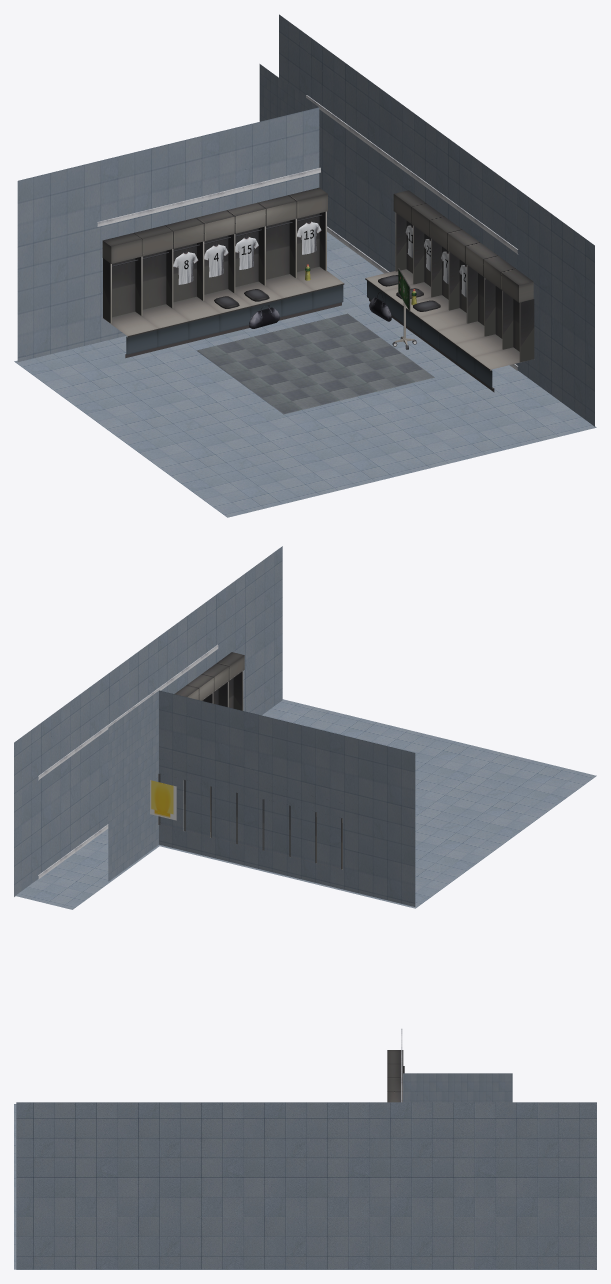
Rendered from foyer.fbx.
3 views of the same model, one above another, from view 1: azimuth 30°, elevation 25°; view 2: azimuth 150°, elevation 25°; view 3: azimuth 270°, elevation 25° (orthographic). The views are drawn at different scales.
Visible parts, largest first — view 1: f2, f1, f4; view 2: f2, f1, light; view 3: f2, f1.
Boxes of the visible parts, x1,y1,x2,y2 form: f2: (14,14,596,517); f1: (97,95,534,392); f4: (196,313,434,414); f2: (14,546,596,909); f1: (38,644,342,878); light: (150,780,176,820); f2: (14,1073,596,1269); f1: (387,1028,404,1102).
Size of the model in its own units: 1093 by 516 by 1626.
